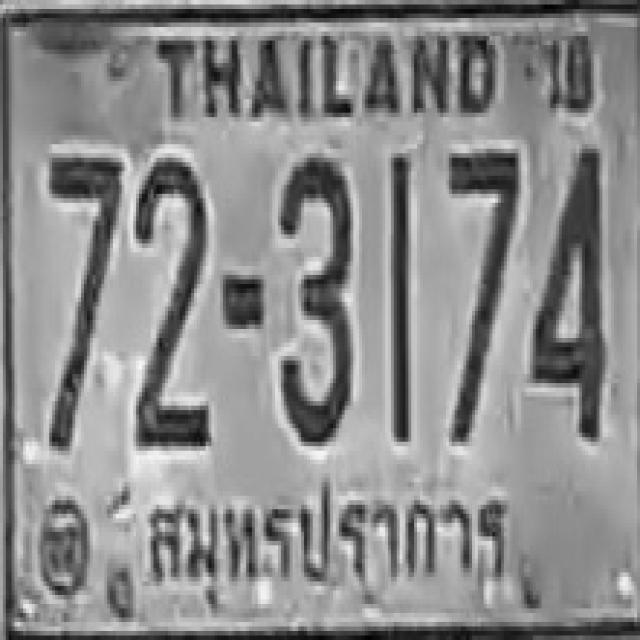1: (388, 151, 411, 439)
2: (132, 156, 207, 448)
3: (278, 153, 350, 442)
4: (528, 144, 604, 437)
7: (46, 153, 122, 451), (446, 148, 518, 442), (446, 146, 518, 358)
SPK: (127, 459, 516, 616)
